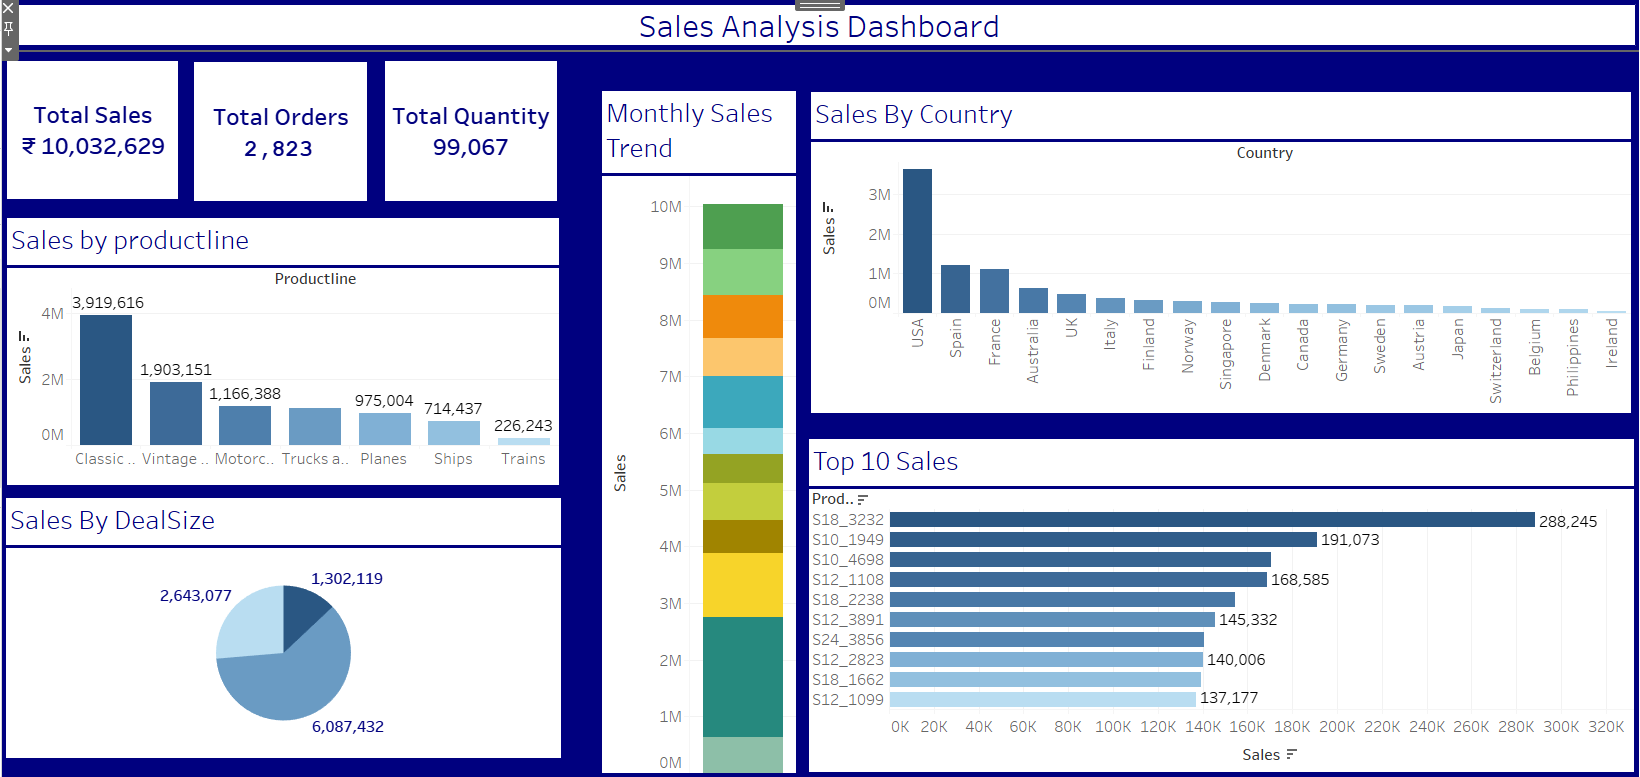

The page's visual inventory and layout, read from the dashboard file:
{"tool":"tableau","page":{"name":"Dashboard 1","canvas":[1000,1000],"units":"permille","ordinal":0},"visuals":[{"type":"title","box":[4.8,10,990.3,62.4]},{"type":"worksheet","title":" Total Sales","mark":"Automatic","box":[9.7,86.1,103.2,172.3]},{"type":"worksheet","title":"Total Quantity","mark":"Automatic","box":[237.8,86.1,103.8,174.8]},{"type":"worksheet","title":"Total Orders","mark":"Automatic","box":[122.5,87.4,104.4,173.5]},{"type":"worksheet","title":"Monthly Sales Trend","mark":"Bar","rows":["SALES"],"box":[368.7,123.6,117.1,851.4]},{"type":"worksheet","title":"Sales By Country","mark":"Automatic","rows":["SALES"],"cols":["COUNTRY"],"box":[494.9,124.8,494.9,400.8]},{"type":"worksheet","title":"Sales by productline","mark":"Automatic","rows":["SALES"],"cols":["PRODUCTLINE"],"box":[9.7,282.2,333.1,333.3]},{"type":"worksheet","title":"Top 10 Sales","mark":"Automatic","rows":["PRODUCTCODE"],"cols":["SALES"],"box":[493.7,558.1,497.9,423.2]},{"type":"worksheet","title":"Sales By DealSize","mark":"Pie","box":[9.1,631.7,334.9,324.6]}]}

Visuals, with their boxes on the dashboard's canvas, which has no fixed pixel size, in thousandths of its width and height (x1, y1, x2, y2). These are canvas units, not pixel positions in the 1640x777 screenshot, which may show the page scaled, cropped or inside an application window:
title: bbox=[5, 10, 995, 72]
" Total Sales" worksheet: bbox=[10, 86, 113, 258]
"Total Quantity" worksheet: bbox=[238, 86, 342, 261]
"Total Orders" worksheet: bbox=[122, 87, 227, 261]
"Monthly Sales Trend" worksheet (Bar marks): bbox=[369, 124, 486, 975]
"Sales By Country" worksheet: bbox=[495, 125, 990, 526]
"Sales by productline" worksheet: bbox=[10, 282, 343, 616]
"Top 10 Sales" worksheet: bbox=[494, 558, 992, 981]
"Sales By DealSize" worksheet (Pie marks): bbox=[9, 632, 344, 956]
